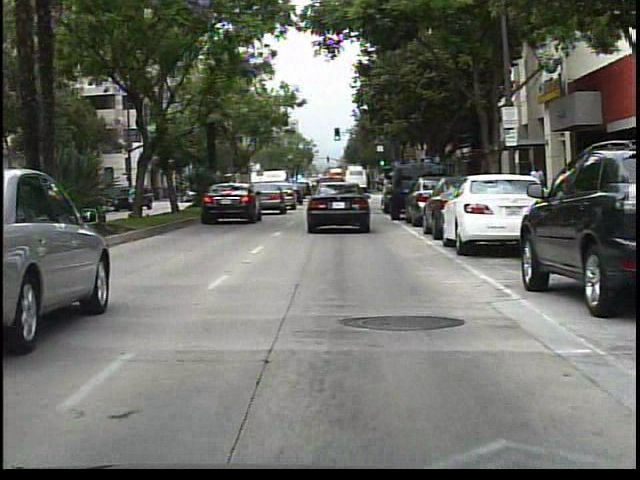person: (526, 157, 549, 222)
